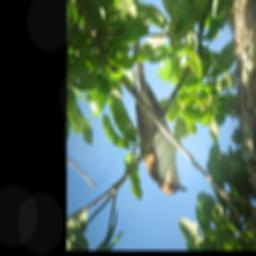Cuckoo: (130, 33, 190, 197)
